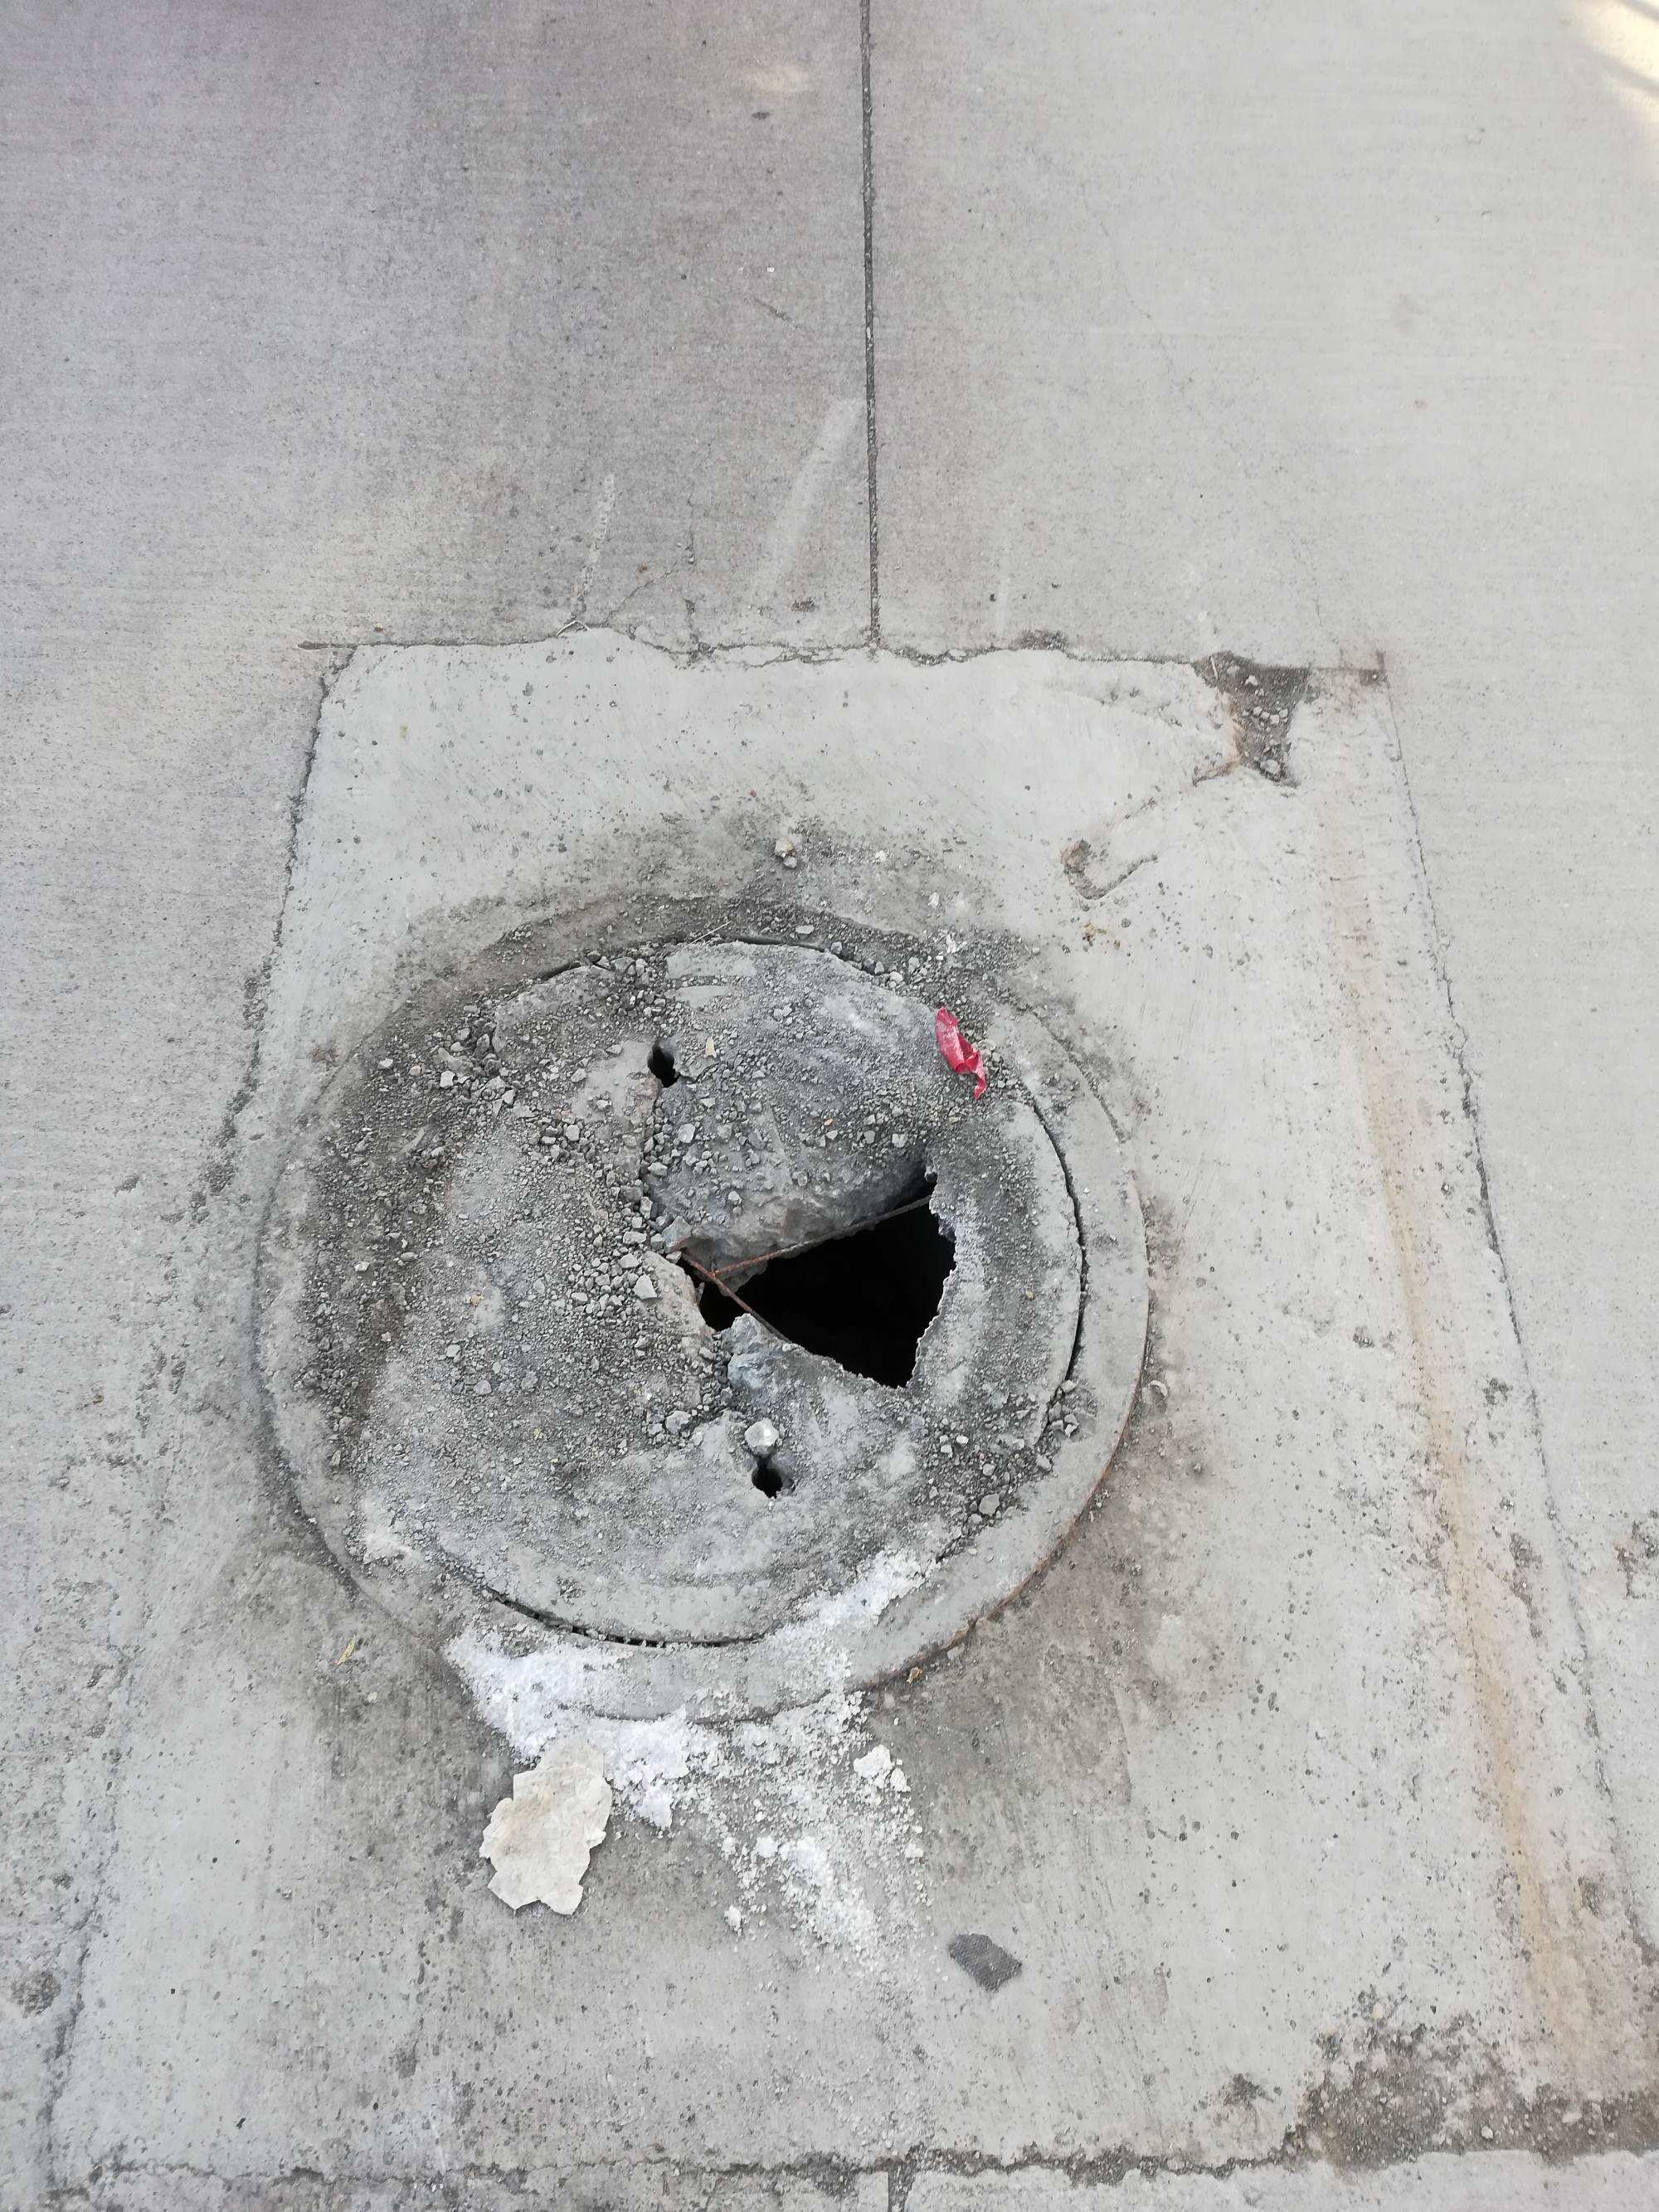broke: (249, 902, 1150, 1714)
